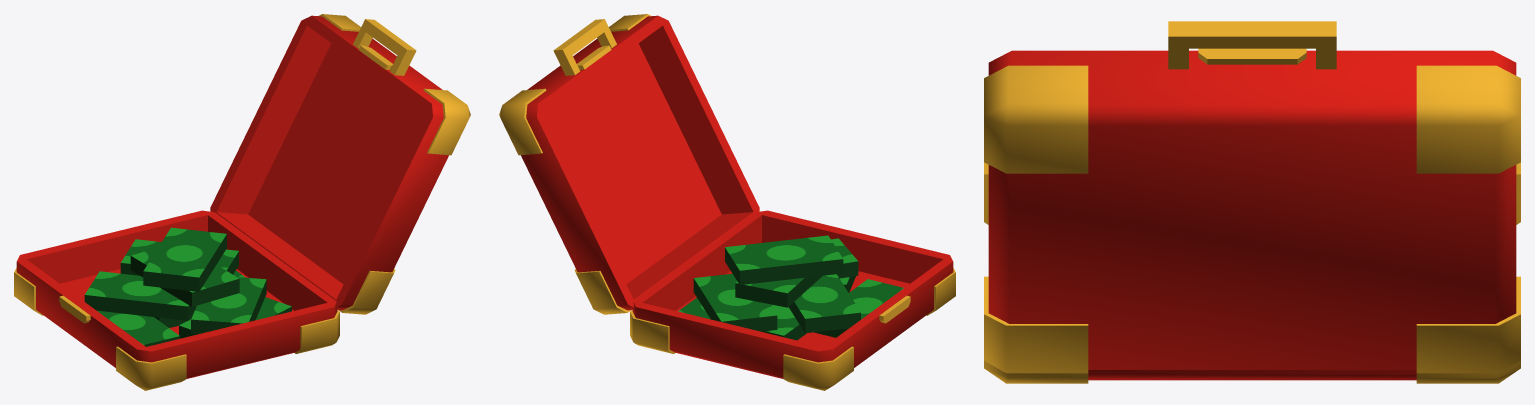
The model's file is vali tien.FBX.
3 renders of one model, left to right at view 1: azimuth 30°, elevation 25°; view 2: azimuth 150°, elevation 25°; view 3: azimuth 270°, elevation 25°, orthographic. The views are drawn at different scales.
Parts seen in each view (by area): view 1: vali tien; view 2: vali tien; view 3: vali tien.
Part boxes in pixels (<box>): vali tien: <box>14,14,470,390</box>; vali tien: <box>499,14,955,390</box>; vali tien: <box>984,21,1520,383</box>.
Size of the model in its own units: 2.91 by 1.96 by 2.01.
